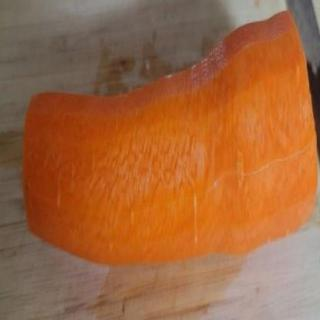carrot: (20, 8, 317, 274)
